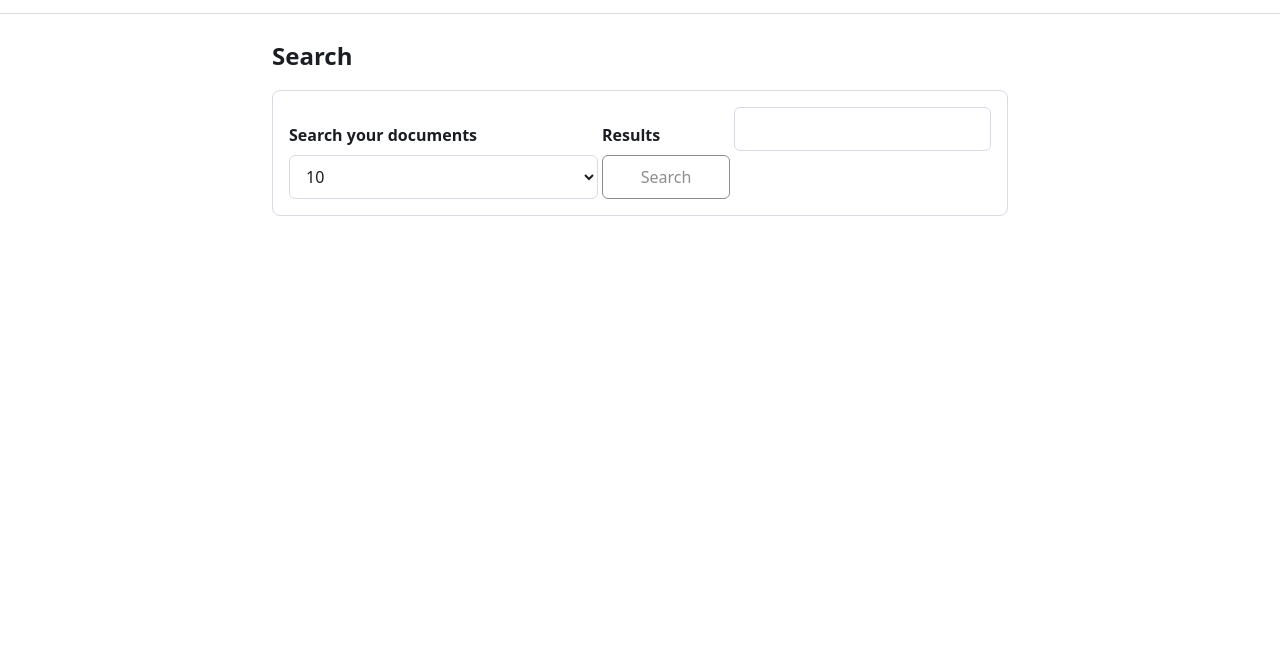
Test: opens a source reference
The image size is (1280, 665).
Step 1. Type "widget" into the search field labelled "Search your documents" → (862, 129), box [734,107,991,151]
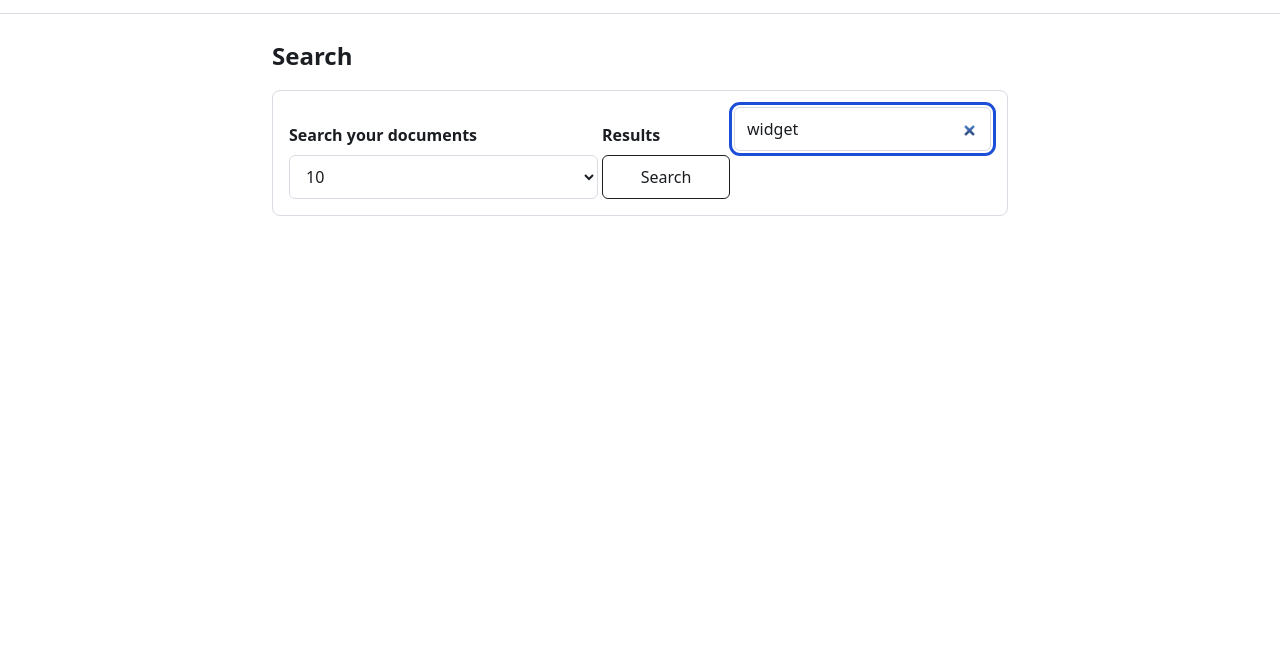
Step 2. Click the button "Search" → (666, 177), box [602,155,730,199]
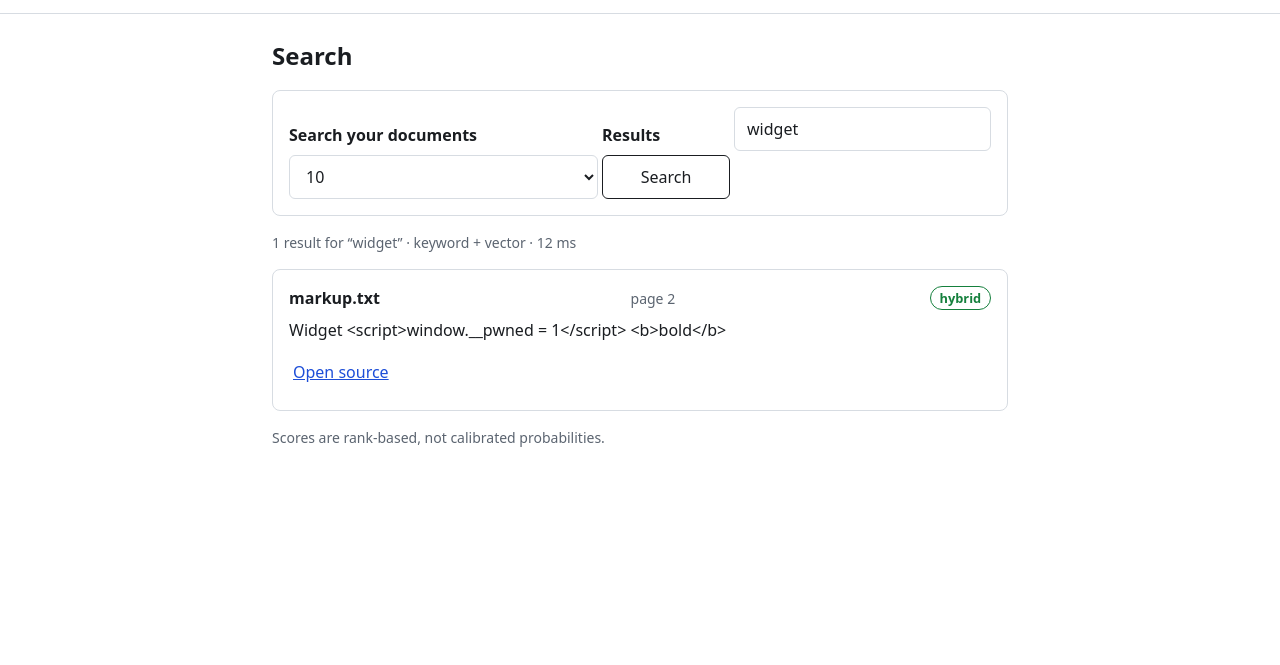
Step 3. Click the button "Open source" → (341, 372), box [289,350,393,394]
(page scrolled)
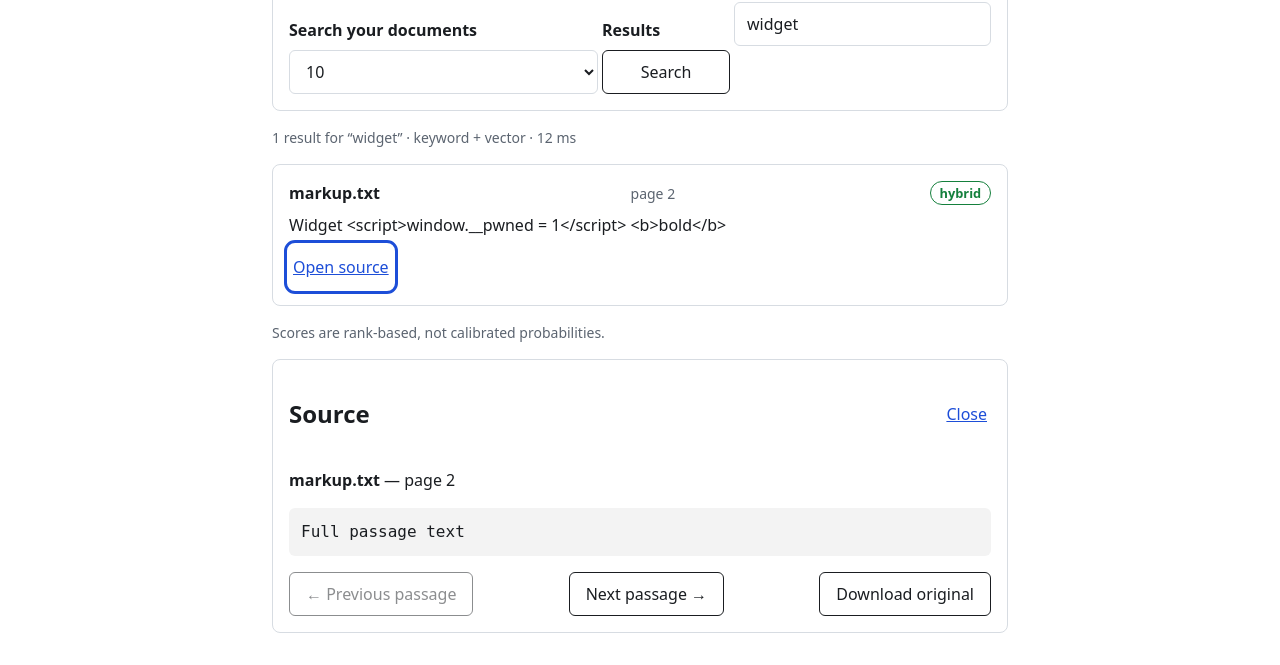
Check: the text "Full passage text" is shown, box [289,508,991,556]
Check: the button "← Previous passage" is disabled, box [289,572,474,616]
Check: the button "Next passage →" is enabled, box [569,572,724,616]
